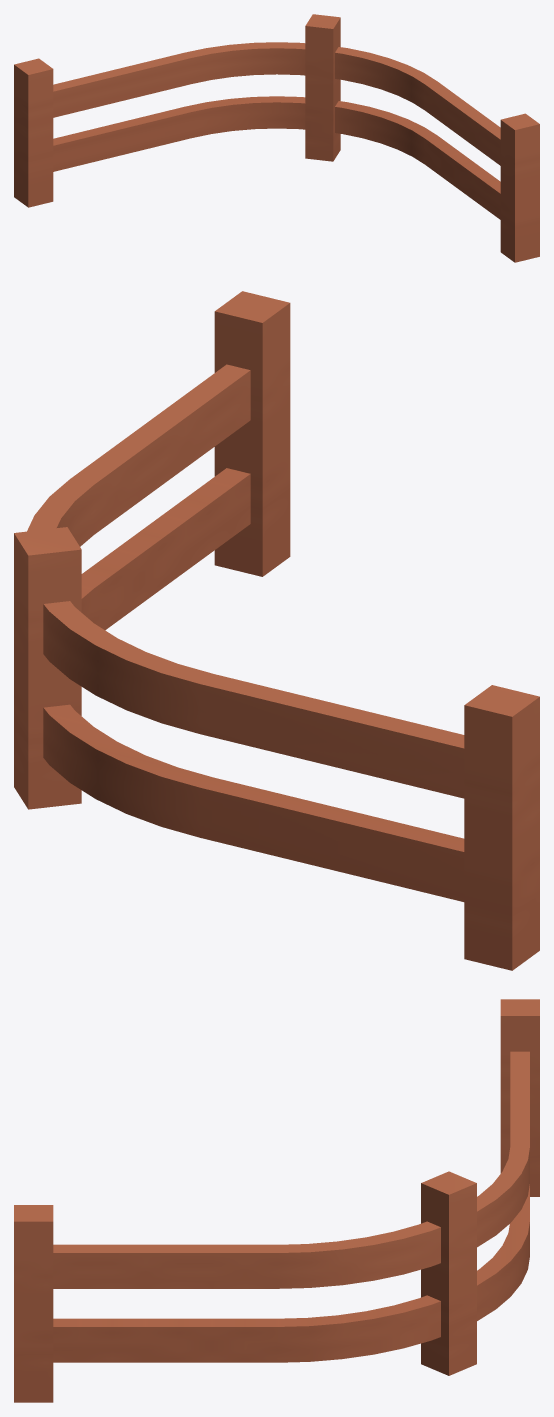
Rendered from fenceCurved.fbx.
The picture shows the model from 3 angles, top to bottom: view 1: azimuth 30°, elevation 25°; view 2: azimuth 150°, elevation 25°; view 3: azimuth 270°, elevation 25°; orthographic projection. The views are drawn at different scales.
Parts seen in each view (by area): view 1: fenceCurved; view 2: fenceCurved; view 3: fenceCurved.
Part boxes in pixels (x1,y1,x2,y2): fenceCurved: [14, 14, 539, 262]; fenceCurved: [14, 291, 539, 970]; fenceCurved: [14, 999, 539, 1402].
Size of the model in its own units: 1 by 1 by 0.38.
